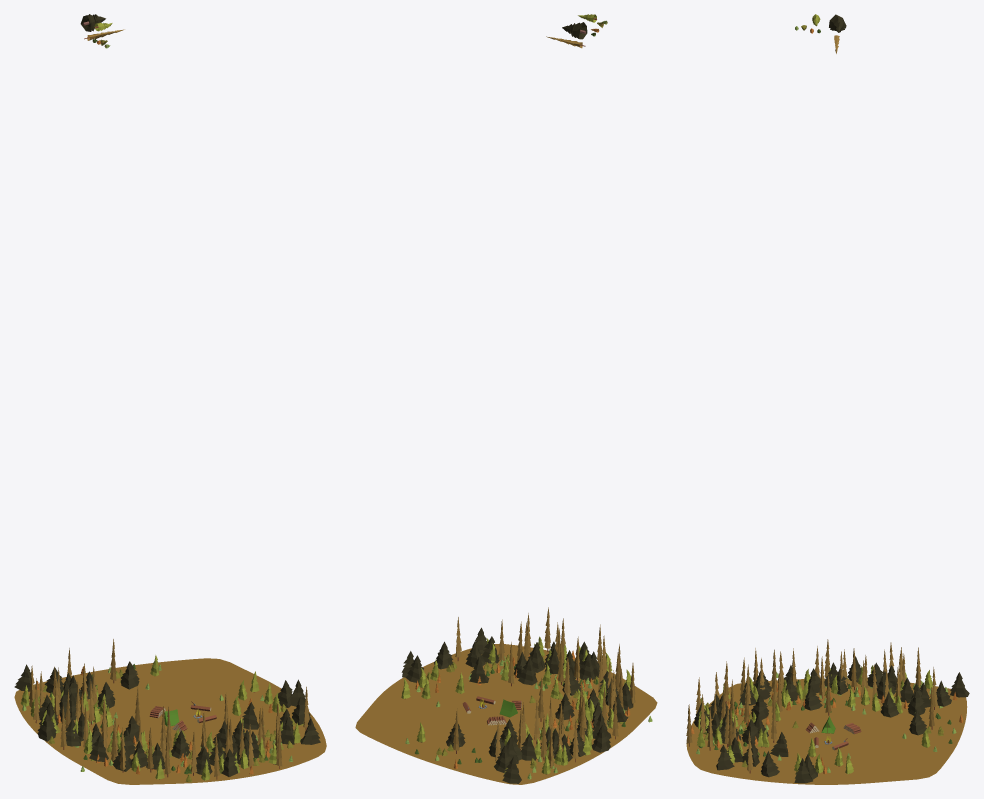
Rendered from low poly drzewa.fbx.
The picture shows the model from 3 angles, left to right: view 1: azimuth 30°, elevation 25°; view 2: azimuth 150°, elevation 25°; view 3: azimuth 270°, elevation 25°; orthographic projection. The views are drawn at different scales.
Visible parts, largest first — view 1: Plane.008; view 2: Plane.008; view 3: Plane.008.
Part boxes in pixels (left/top/right/bottom): Plane.008: left=14, top=658, right=326, bottom=784; Plane.008: left=355, top=644, right=657, bottom=784; Plane.008: left=686, top=678, right=967, bottom=784.
Bounding box in the file's own units: 4072 × 11860 × 4477.
